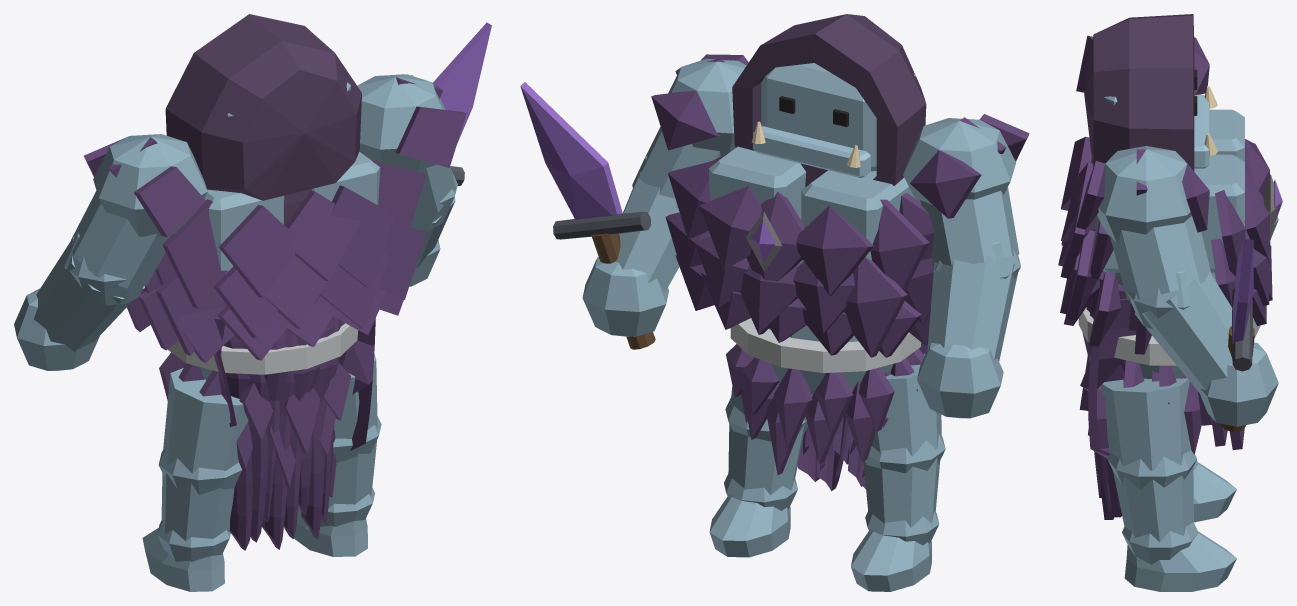
File: host_33.glb
The picture shows the model from 3 angles, left to right: view 1: azimuth 30°, elevation 25°; view 2: azimuth 150°, elevation 25°; view 3: azimuth 270°, elevation 25°; orthographic projection.
Visible parts, largest first — view 1: V6 source fitted domed cloth hood, V6 detail source long folded ragged trailing purple cloak.00 (×8), Upper leg L, Connected shoulder L, Connected shoulder R, Upper arm L, Forearm L, V6 detail source overlapping pointed mantle.008, V6 detail source overlapping pointed mantle.007, V6 detail wraith source exposed silver waist girdle, V6 detail source overlapping pointed mantle.009, V6 detail source overlapping pointed mantle.006 (+35 smaller); view 2: V6 source fitted domed cloth hood, Observed face, Forearm L, V6 source curved forged dagger blade, Grasping hand L, Connected shoulder L, Upper arm L, Grasping hand R, V6 detail wraith source exposed silver waist girdle, Separated phantom armor upper chest plate, Forearm R, Separated phantom armor upper chest plate.001 (+45 smaller); view 3: V6 source fitted domed cloth hood, Connected shoulder R, Upper leg R, Forearm R, Upper arm R, V6 detail source long folded ragged trailing purple cloak.00 (×3), V6 spectral swordsman bare icy contacting foot R, Lower leg R, Grasping hand R, Separated phantom armor upper chest plate.001, Knee contacting articulated joint R, V6 spectral swordsman bare icy contacting foot L (+30 smaller).
Part boxes in pixels (box(x1,y1,x2,y2)): V6 source fitted domed cloth hood: box(165, 14, 361, 200); V6 detail source long folded ragged trailing purple cloak.00 (×8): box(243, 316, 375, 549); Upper leg L: box(163, 368, 248, 473); Connected shoulder L: box(93, 134, 207, 236); Connected shoulder R: box(357, 74, 445, 172); Upper arm L: box(71, 191, 171, 288); Forearm L: box(34, 237, 144, 351); V6 detail source overlapping pointed mantle.008: box(218, 205, 295, 297); V6 detail source overlapping pointed mantle.007: box(285, 191, 360, 281); V6 detail wraith source exposed silver waist girdle: box(168, 323, 358, 374); V6 detail source overlapping pointed mantle.009: box(162, 199, 227, 308); V6 detail source overlapping pointed mantle.006: box(330, 185, 394, 288); V6 source fitted domed cloth hood: box(732, 14, 926, 185); Observed face: box(761, 63, 915, 171); Forearm L: box(927, 255, 1017, 361); V6 source curved forged dagger blade: box(520, 82, 622, 219); Grasping hand L: box(917, 343, 1003, 418); Connected shoulder L: box(903, 118, 1016, 204); Upper arm L: box(920, 187, 1019, 267); Grasping hand R: box(582, 257, 668, 336); V6 detail wraith source exposed silver waist girdle: box(730, 318, 921, 372); Separated phantom armor upper chest plate: box(801, 170, 914, 263); Forearm R: box(616, 171, 679, 292); Separated phantom armor upper chest plate.001: box(709, 146, 806, 236); V6 source fitted domed cloth hood: box(1084, 14, 1194, 171); Connected shoulder R: box(1097, 146, 1191, 243); Upper leg R: box(1101, 378, 1191, 470); Forearm R: box(1134, 272, 1255, 393); Upper arm R: box(1109, 216, 1211, 300); V6 detail source long folded ragged trailing purple cloak.00 (×3): box(1080, 270, 1136, 519); V6 spectral swordsman bare icy contacting foot R: box(1124, 531, 1236, 591); Lower leg R: box(1113, 467, 1193, 541); Grasping hand R: box(1199, 342, 1278, 426); Separated phantom armor upper chest plate.001: box(1095, 154, 1244, 272); Knee contacting articulated joint R: box(1107, 450, 1196, 489); V6 spectral swordsman bare icy contacting foot L: box(1193, 462, 1236, 522).
Bounding box in the file's own units: 1.38 × 1.48 × 0.5698.
